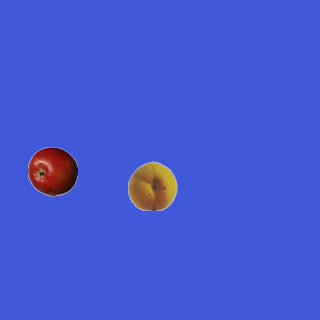Apple Braeburn: (27, 146, 77, 196)
Peach 2: (127, 160, 177, 210)
